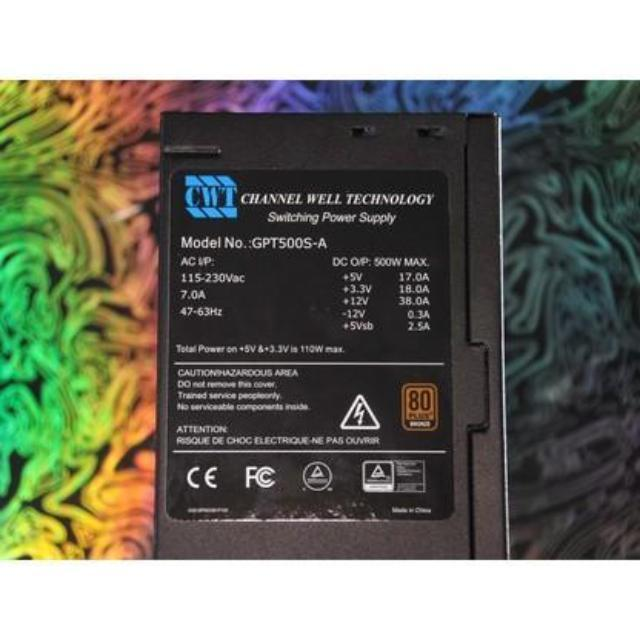PSU: (155, 104, 510, 559)
